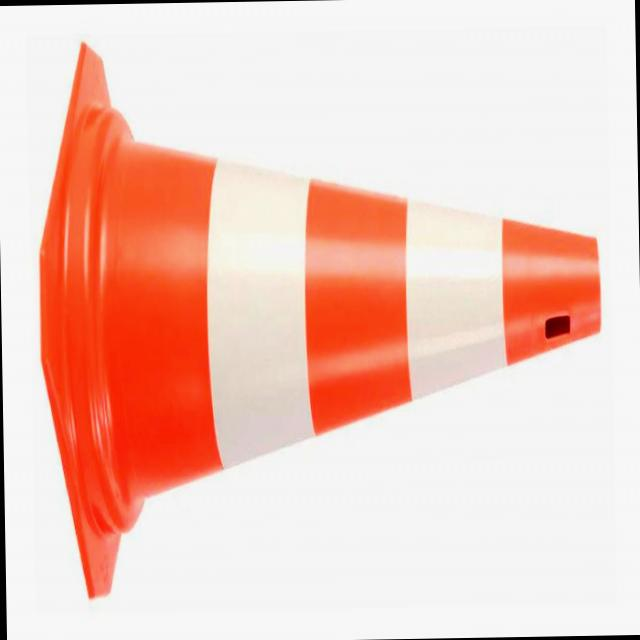cone: (46, 16, 624, 612)
